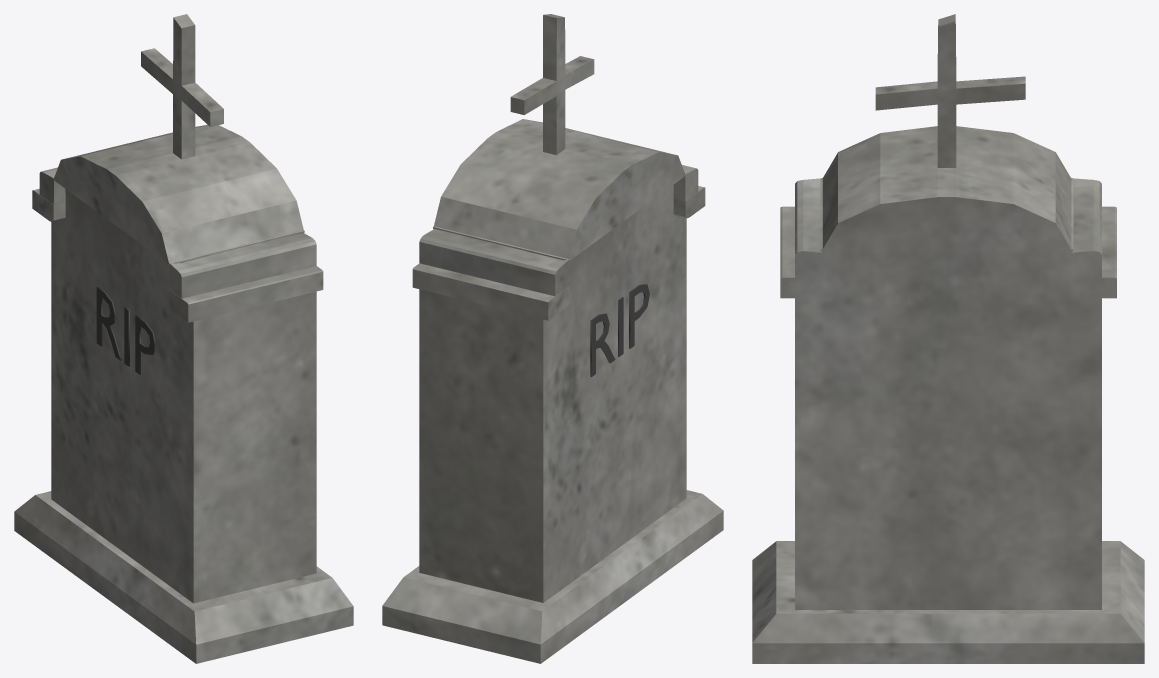
The model's file is tombstonewithcross 1.fbx.
3 renders of one model, left to right at view 1: azimuth 30°, elevation 25°; view 2: azimuth 150°, elevation 25°; view 3: azimuth 270°, elevation 25°, orthographic. The views are drawn at different scales.
Visible parts, largest first — view 1: Cube, RIP2; view 2: Cube, RIP2; view 3: Cube.
Part boxes in pixels (<box>): Cube: <box>14,14,353,663</box>; RIP2: <box>96,287,155,374</box>; Cube: <box>382,14,723,663</box>; RIP2: <box>590,284,649,377</box>; Cube: <box>752,14,1144,663</box>.
Bounding box in the file's own units: 199 × 678 × 399.
